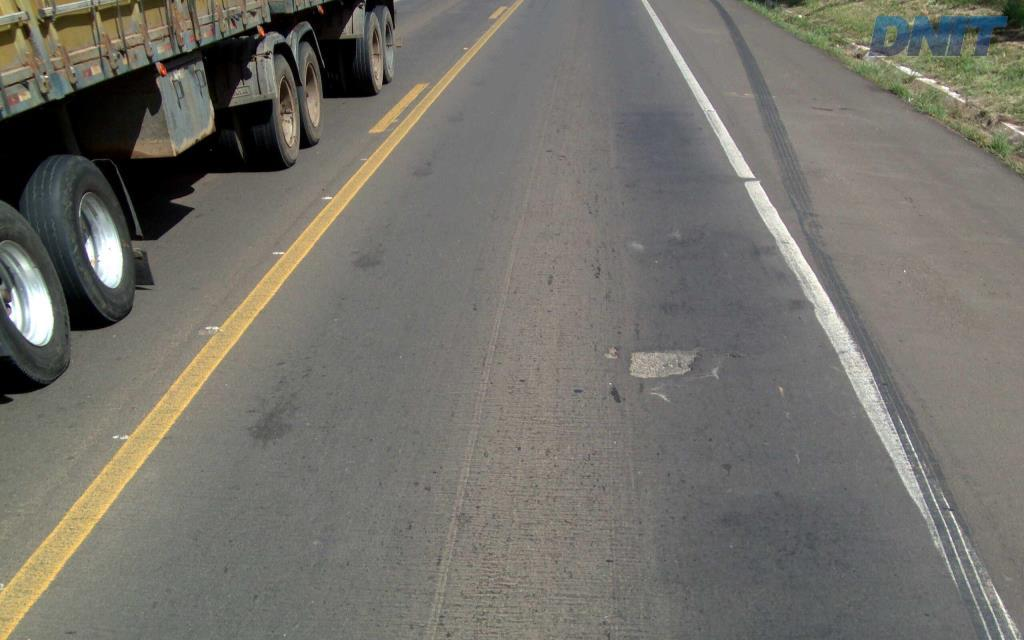pothole: (623, 338, 708, 384)
